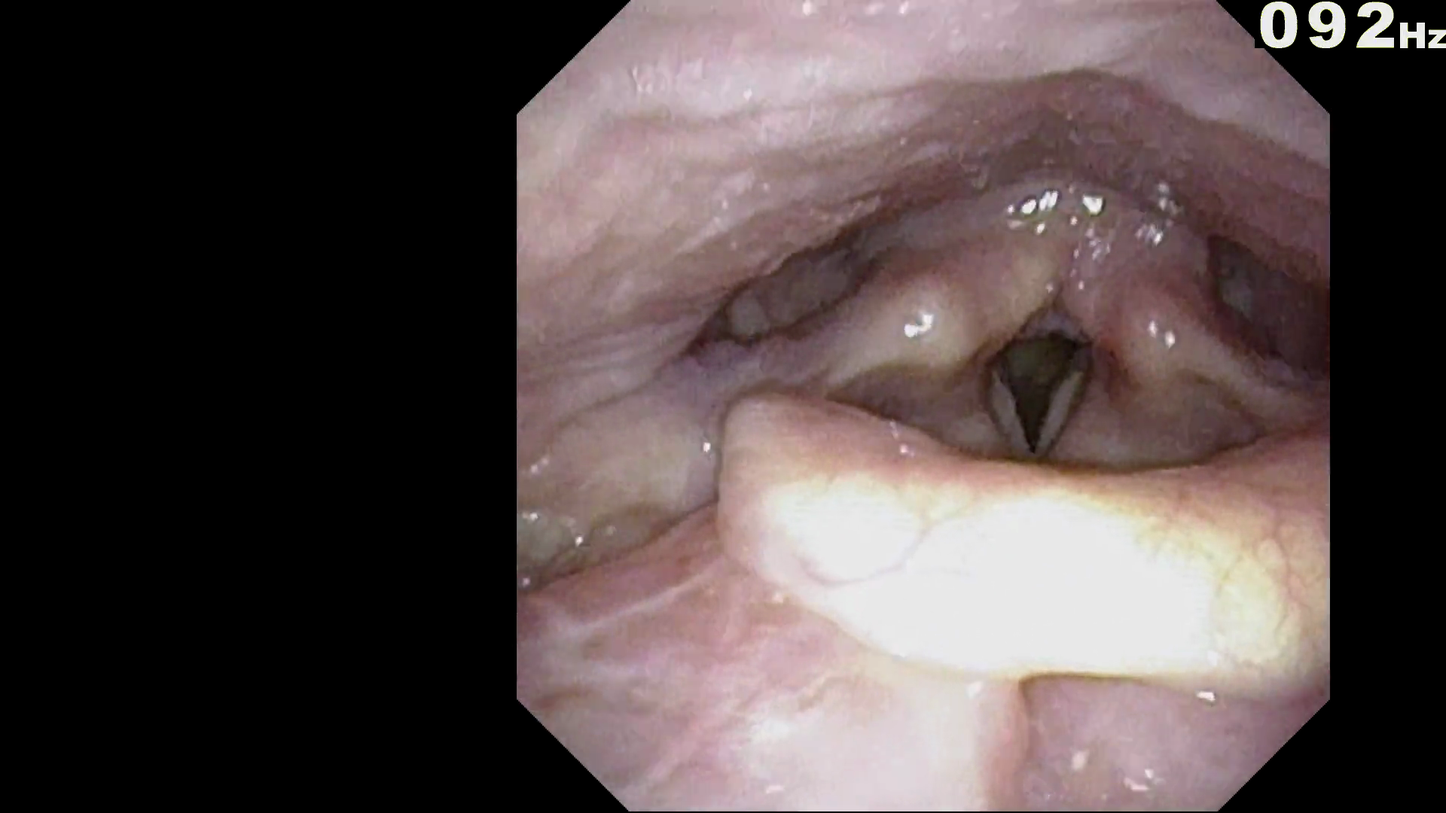epiglottis: (686, 358, 1327, 666)
trachea: (937, 277, 1117, 487)
